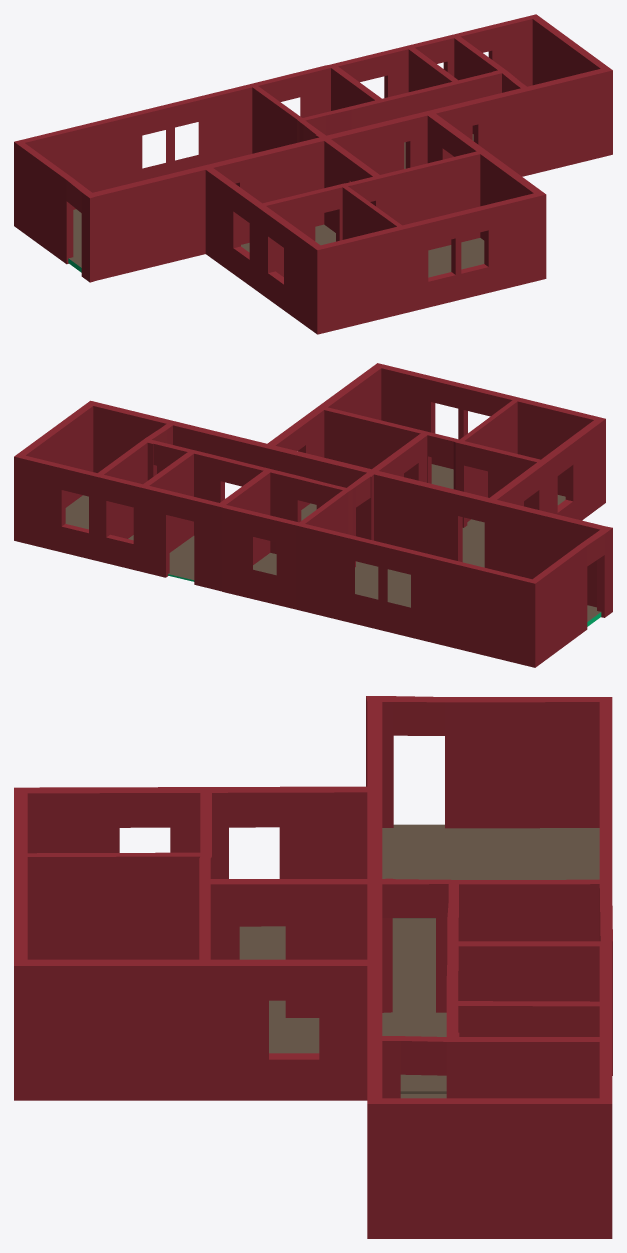
Rendered from House.fbx.
3 renders of one model, top to bottom at view 1: azimuth 30°, elevation 25°; view 2: azimuth 150°, elevation 25°; view 3: azimuth 270°, elevation 25°, orthographic. The views are drawn at different scales.
Visible parts, largest first — view 1: Plane, Plane.001; view 2: Plane, Plane.001; view 3: Plane, Plane.001.
Boxes of the visible parts, left/top/right/bottom form: Plane: left=14, top=14, right=612, bottom=334; Plane.001: left=68, top=134, right=484, bottom=277; Plane: left=14, top=363, right=612, bottom=667; Plane.001: left=65, top=464, right=601, bottom=626; Plane: left=14, top=696, right=612, bottom=1238; Plane.001: left=239, top=824, right=599, bottom=1098.
Bounding box in the file's own units: 905 × 139 × 562.
